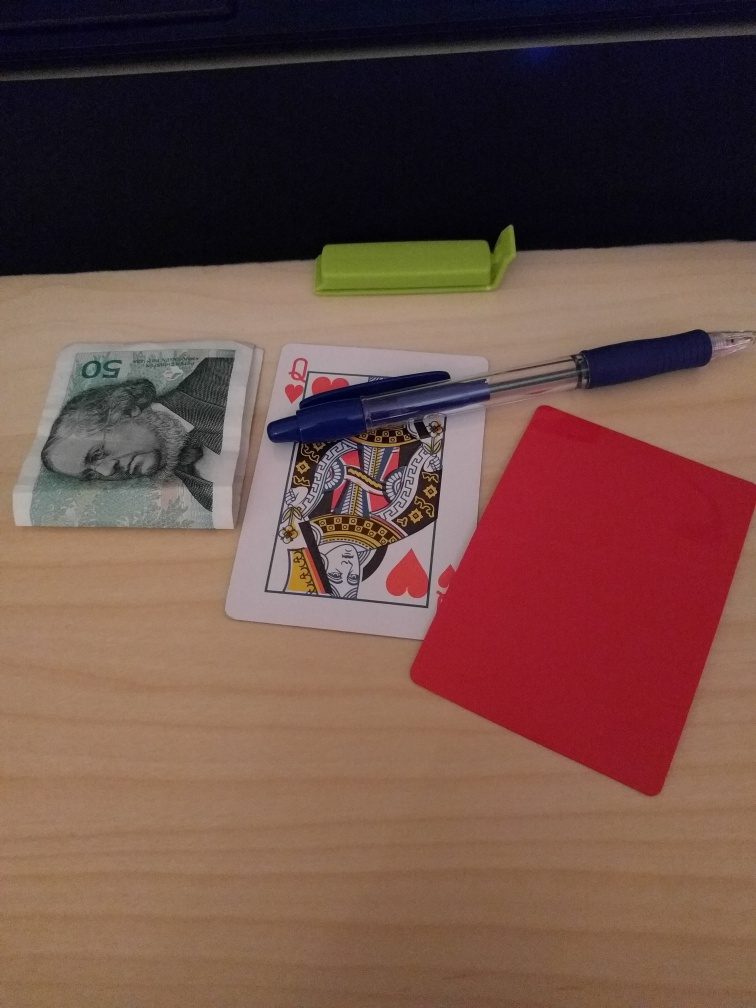queen: (224, 341, 490, 643)
